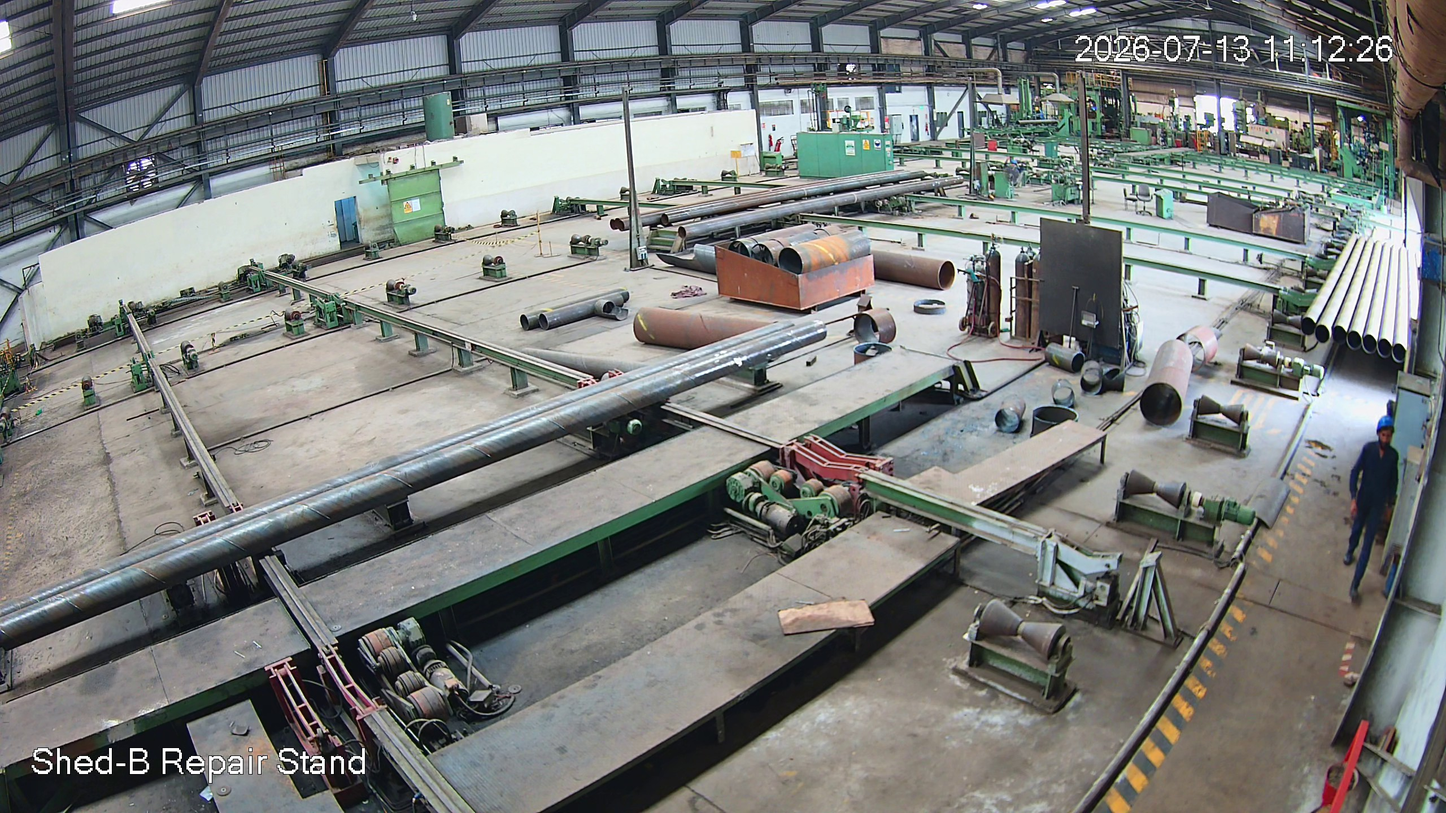Helmet: (1370, 412, 1407, 460)
Person: (1342, 416, 1406, 619)
